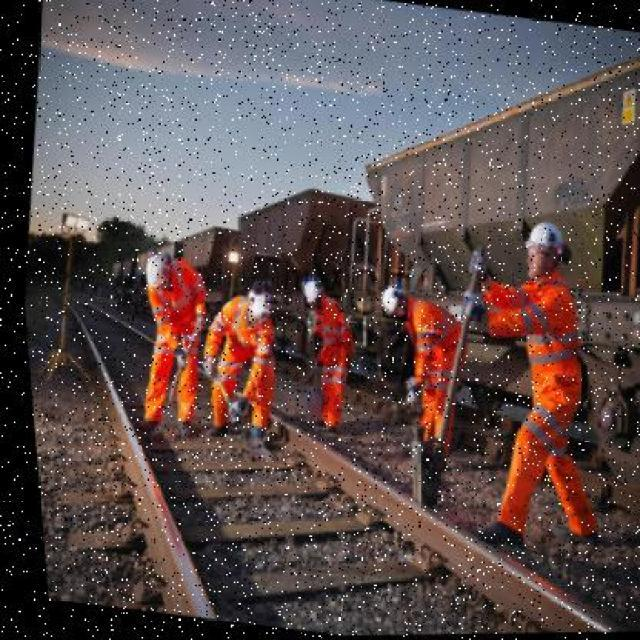helmet: (511, 215, 571, 263), (369, 281, 404, 321), (135, 254, 163, 288), (291, 276, 321, 307), (245, 292, 270, 324)
vest: (502, 280, 572, 364), (392, 295, 436, 353), (149, 288, 203, 332), (213, 303, 250, 354), (308, 308, 336, 348)
